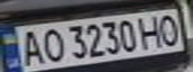0: (118, 16, 142, 52)
2: (84, 20, 106, 57)
3: (63, 22, 87, 60), (100, 19, 124, 55)
A: (15, 27, 45, 66)
H: (136, 14, 166, 50)
O: (36, 26, 66, 64), (154, 11, 184, 46)
